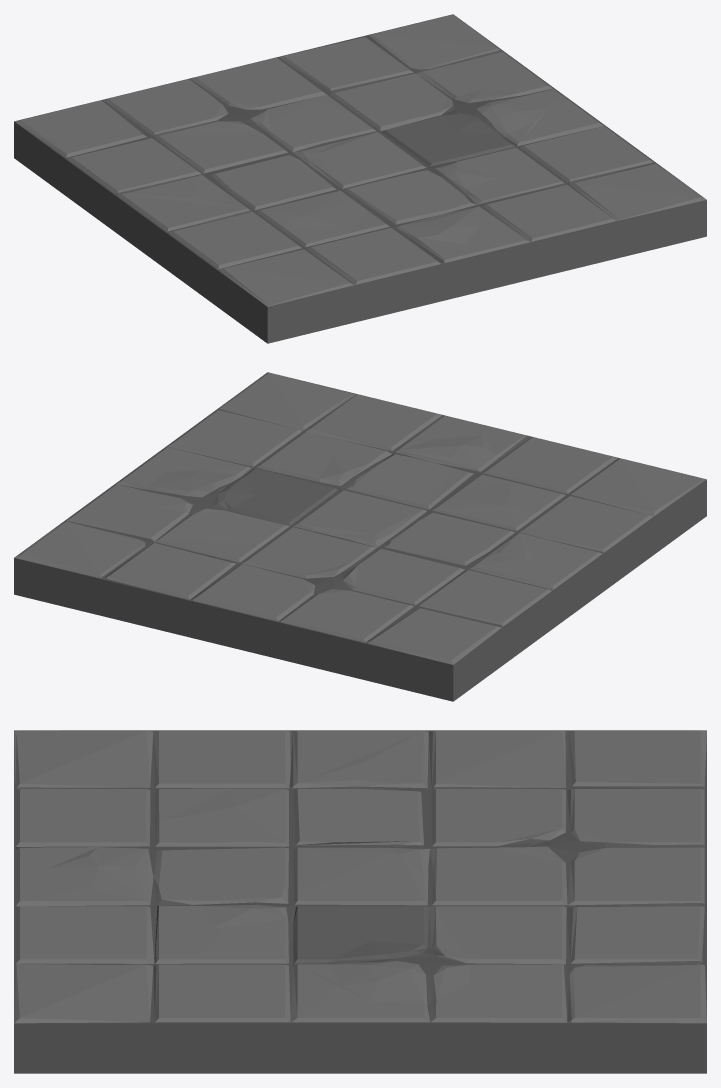
The model's file is Floor_07.glb.
3 renders of one model, top to bottom at view 1: azimuth 30°, elevation 25°; view 2: azimuth 150°, elevation 25°; view 3: azimuth 270°, elevation 25°, orthographic. The views are drawn at different scales.
Visible parts, largest first — view 1: Floor_07_LOD0; view 2: Floor_07_LOD0; view 3: Floor_07_LOD0.
Part boxes in pixels (<box>): Floor_07_LOD0: <box>14,14,706,343</box>; Floor_07_LOD0: <box>14,372,706,701</box>; Floor_07_LOD0: <box>14,730,706,1073</box>.
Size of what is drawn, in the model's own units: 2.5 by 0.2273 by 2.5.
Materials: 1 (1 with a texture image).
